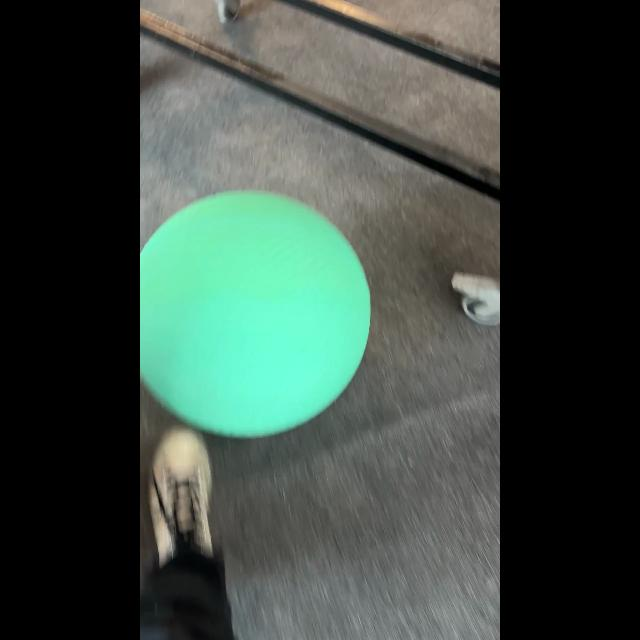ALGAE: (140, 189, 372, 439)
